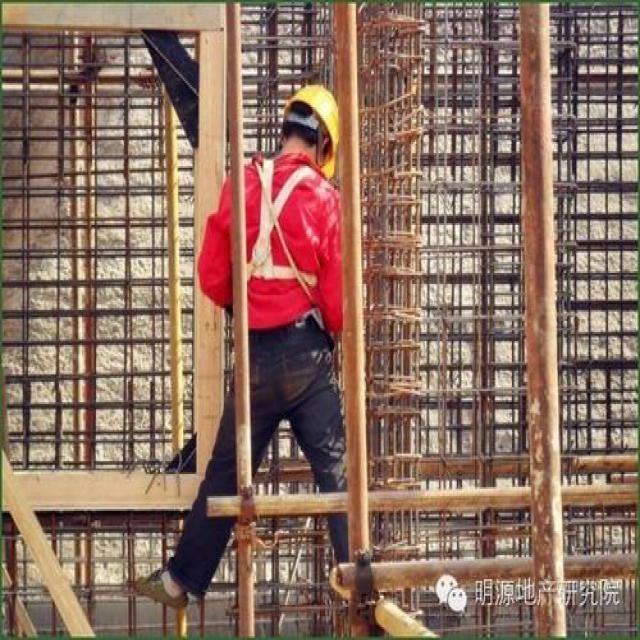Arnes_seguridad: (242, 148, 328, 292)
